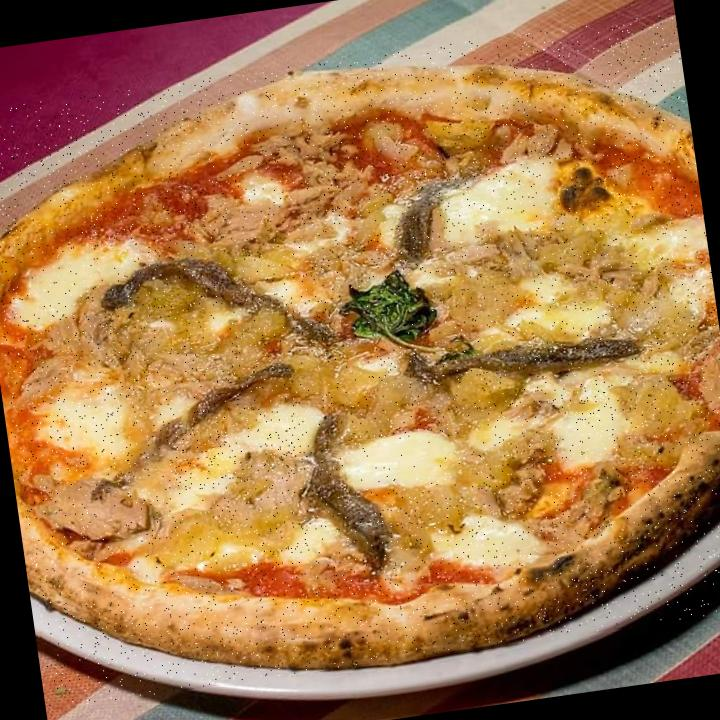Basil: (340, 275, 440, 353)
Cheese: (164, 414, 305, 490), (14, 243, 129, 318), (441, 163, 554, 238), (514, 388, 618, 468), (47, 390, 130, 462), (347, 435, 447, 490)
Pizza: (0, 11, 720, 708)
